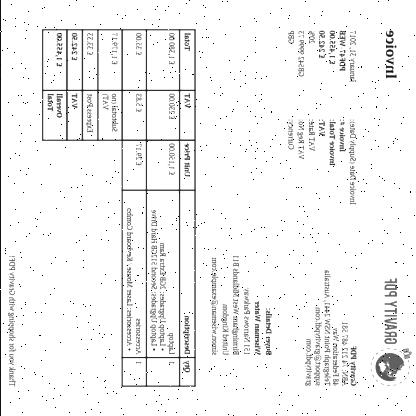Paragraph: (284, 27, 358, 207), (44, 30, 119, 134), (208, 254, 274, 358), (302, 268, 358, 389), (5, 255, 16, 388), (381, 276, 398, 346), (382, 29, 398, 81)
Table: (122, 30, 195, 387)
